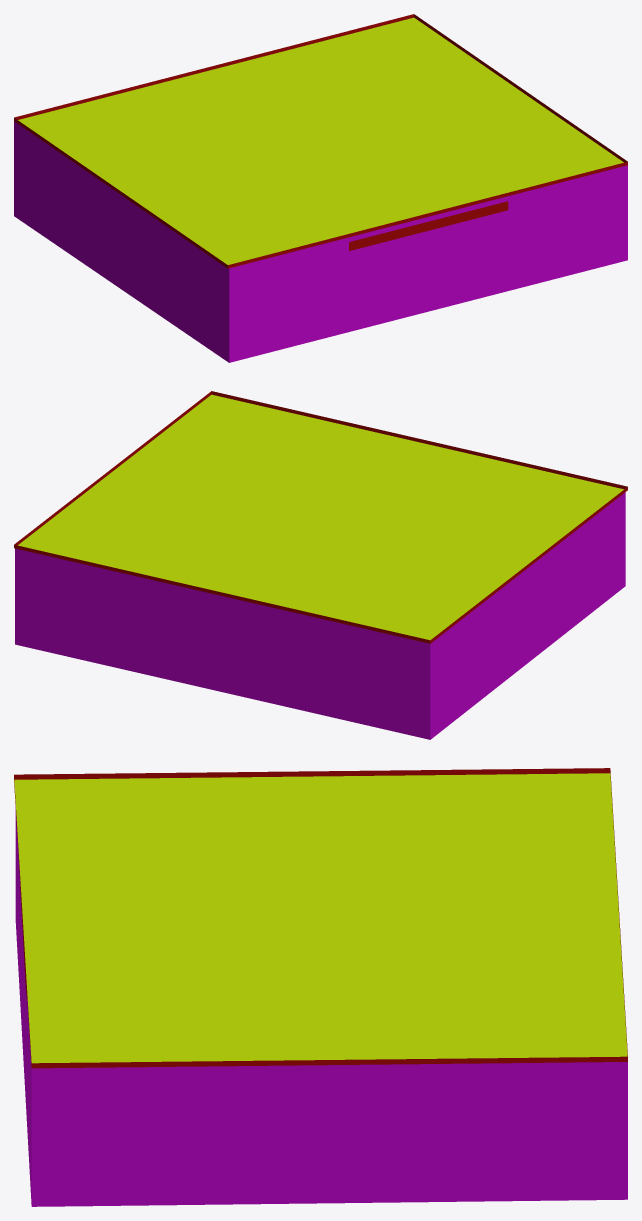
File: rmc_7.glb
The picture shows the model from 3 angles, top to bottom: view 1: azimuth 30°, elevation 25°; view 2: azimuth 150°, elevation 25°; view 3: azimuth 270°, elevation 25°; orthographic projection. The views are drawn at different scales.
Visible parts, largest first — view 1: rmc_7; view 2: rmc_7; view 3: rmc_7.
Part boxes in pixels (bbox=[...]): rmc_7: bbox=[14, 14, 627, 362]; rmc_7: bbox=[14, 391, 627, 739]; rmc_7: bbox=[14, 768, 627, 1206].
Size of the model in its own units: 42.95 by 9.75 by 37.76.
